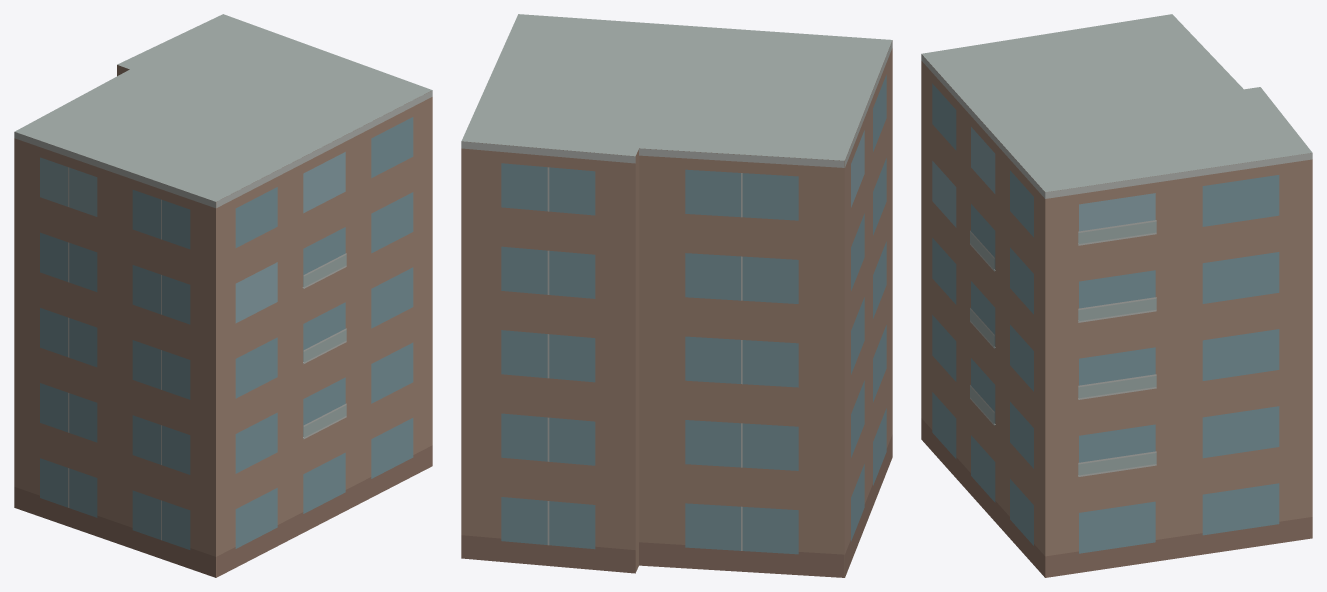
File: survey-upis-32866011.glb
3 views of the same model, side by side, from view 1: azimuth 30°, elevation 25°; view 2: azimuth 150°, elevation 25°; view 3: azimuth 270°, elevation 25° (orthographic). The views are drawn at different scales.
Parts seen in each view (by area): view 1: survey-upis-32866011.tmp; view 2: survey-upis-32866011.tmp; view 3: survey-upis-32866011.tmp.
Part boxes in pixels (left/top/right/bottom): survey-upis-32866011.tmp: left=14, top=14, right=432, bottom=577; survey-upis-32866011.tmp: left=461, top=14, right=892, bottom=577; survey-upis-32866011.tmp: left=921, top=14, right=1312, bottom=577.
Size of the model in its own units: 13.99 by 14.1 by 12.98.
